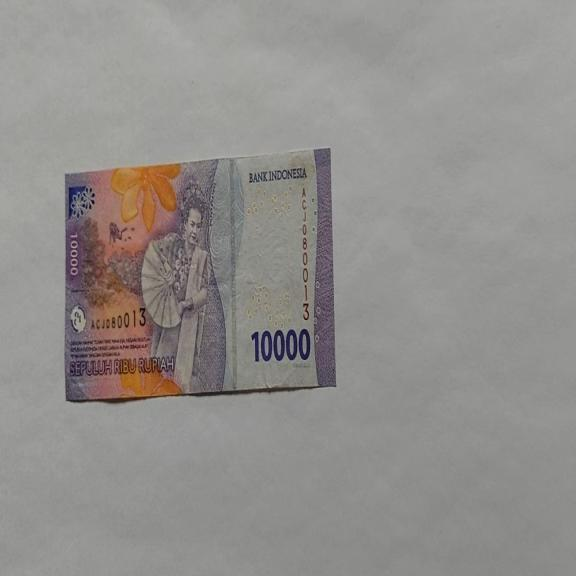Kertas: (64, 145, 336, 402), (250, 326, 311, 363)
